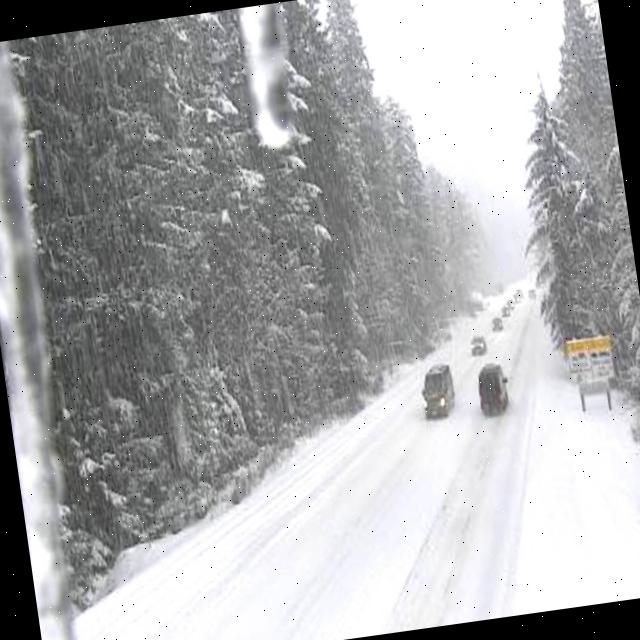car: (418, 361, 458, 421), (474, 359, 513, 418), (468, 336, 487, 356), (490, 314, 502, 329), (505, 300, 516, 313), (514, 286, 524, 300), (500, 306, 510, 319), (512, 293, 521, 304)
